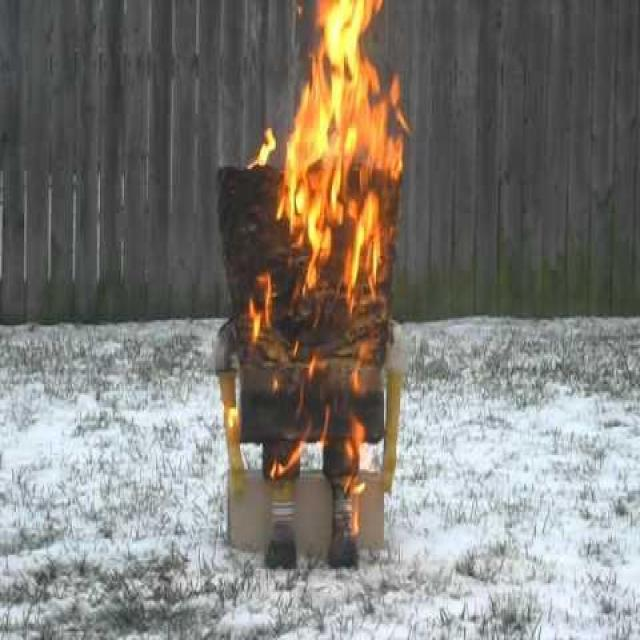fire: (238, 0, 410, 316), (228, 314, 396, 547)
